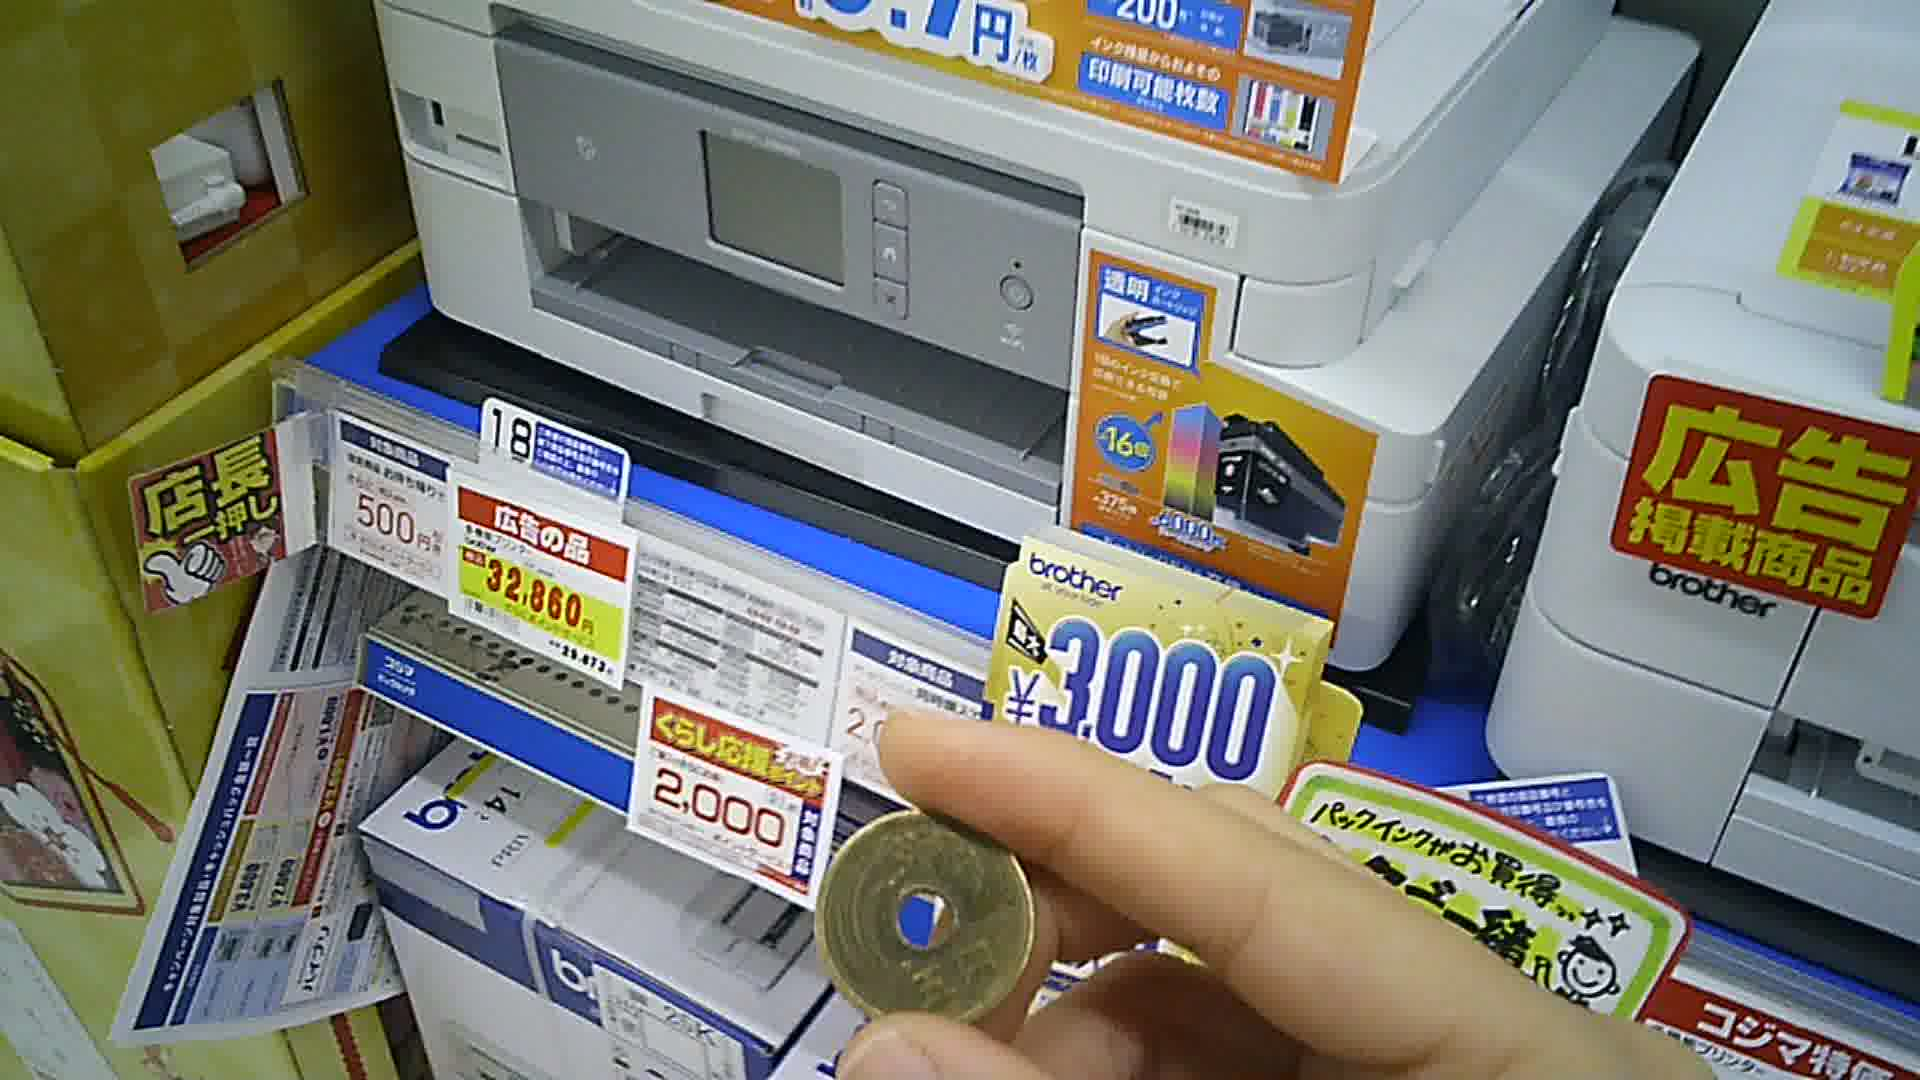5 Yen: (814, 803, 1038, 1025)
